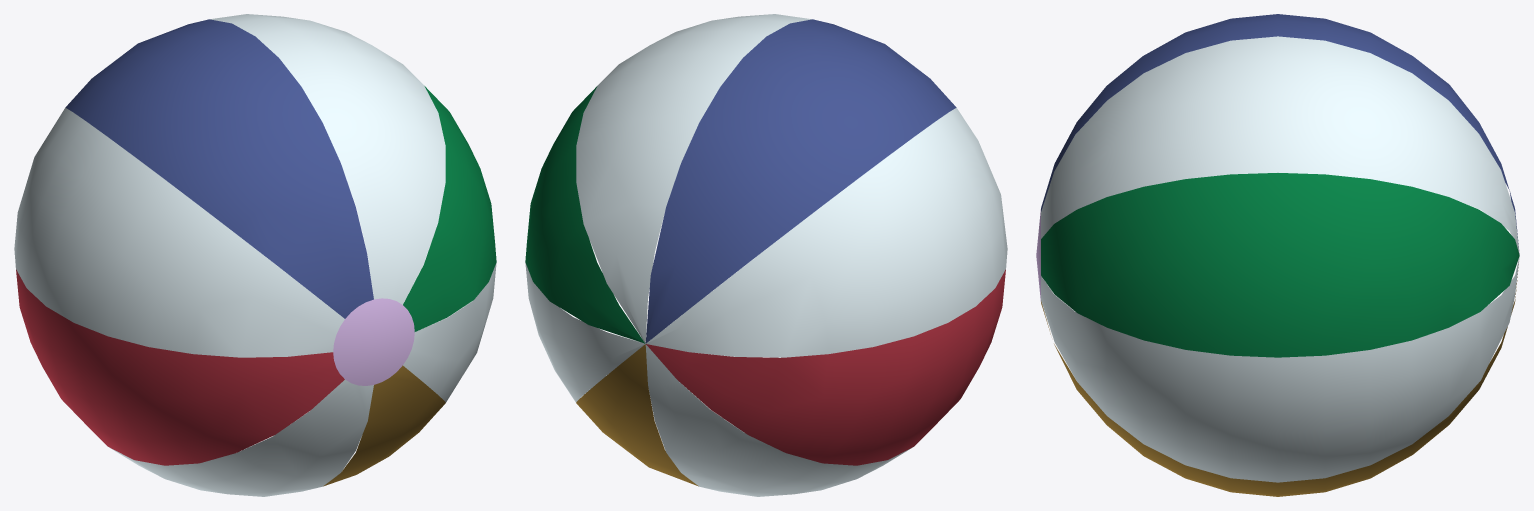
The model's file is beachBall.glb.
3 renders of one model, left to right at view 1: azimuth 30°, elevation 25°; view 2: azimuth 150°, elevation 25°; view 3: azimuth 270°, elevation 25°, orthographic.
Visible parts, largest first — view 1: beachBall; view 2: beachBall; view 3: beachBall.
Part boxes in pixels (x1,y1,x2,y2): beachBall: (14, 14, 496, 496); beachBall: (525, 14, 1007, 496); beachBall: (1036, 14, 1519, 496).
Size of the model in its own units: 0.4 by 0.4 by 0.4.
